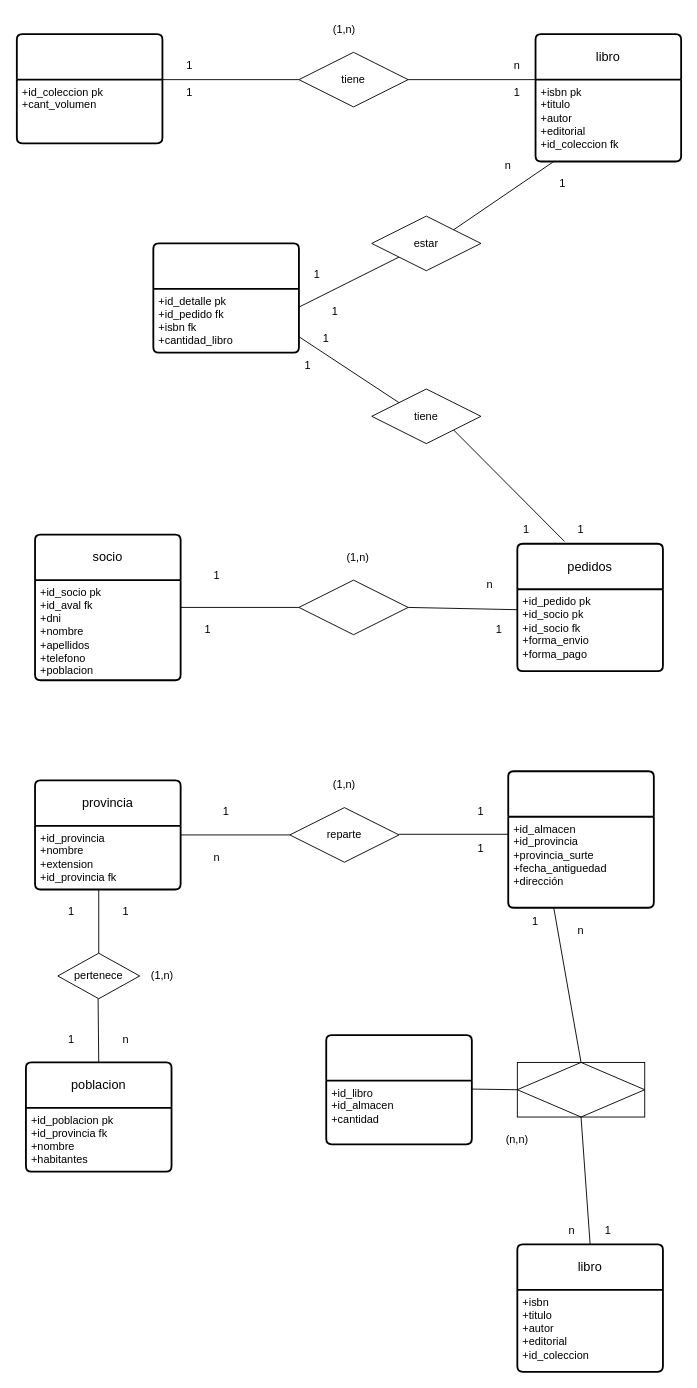
The diagram is 697 pixels wide and 1388 high, and some of its shapes have lost their labels. Each missing label, with the box of its shape:
almacén: (507, 770, 654, 908)
colecciones: (15, 33, 163, 144)
detalle de pedido: (152, 242, 299, 353)
hacer: (298, 579, 408, 635)
hay: (516, 1062, 645, 1117)
stock: (325, 1034, 472, 1145)
